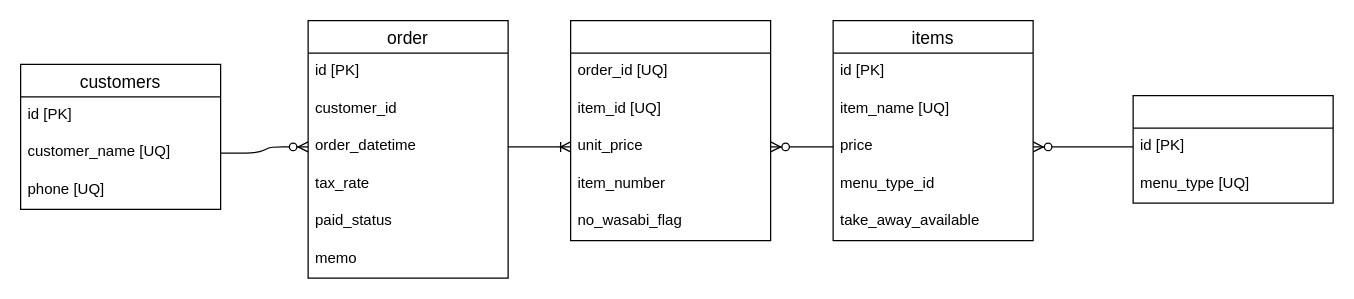
Some shapes in this 1354 by 299 pixel diagram are drawn without their labels. The box of each missing label's shape, as (x1, y1, x2, y2) in pixels:
menu_types: (1132, 94, 1333, 203)
order_detail: (569, 19, 771, 241)
